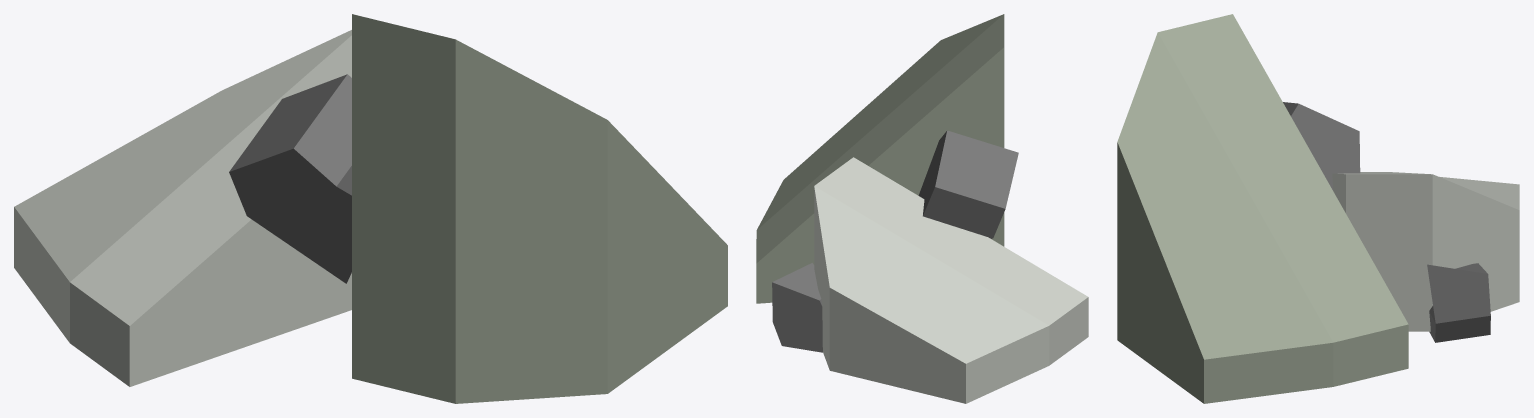
File: rock-type5-03-green.glb
3 views of the same model, side by side, from view 1: azimuth 30°, elevation 25°; view 2: azimuth 150°, elevation 25°; view 3: azimuth 270°, elevation 25° (orthographic). The views are drawn at different scales.
Parts seen in each view (by area): view 1: Rock_Type5_03_mesh; view 2: Rock_Type5_03_mesh; view 3: Rock_Type5_03_mesh.
Boxes of the visible parts, x1,y1,x2,y2 form: Rock_Type5_03_mesh: (14, 14, 727, 403); Rock_Type5_03_mesh: (756, 14, 1088, 403); Rock_Type5_03_mesh: (1117, 14, 1519, 403).
Size of the model in its own units: 2.17 by 1.44 by 1.96.
Materials: 1 (1 with a texture image).
